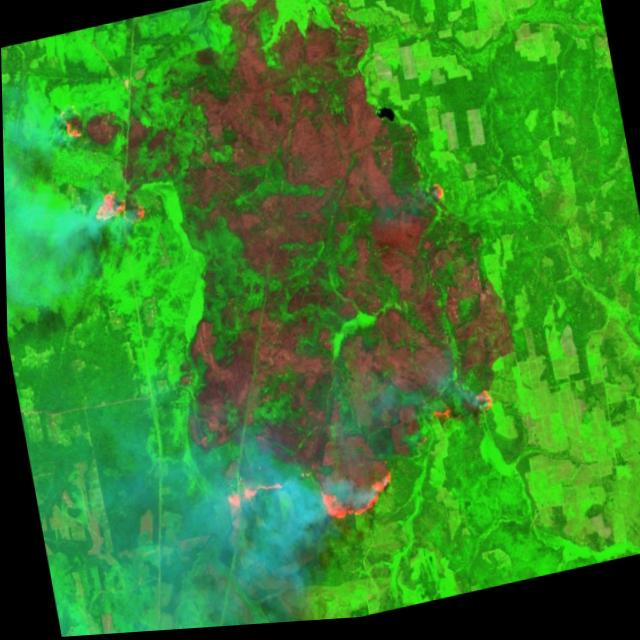fire: (209, 388, 507, 555), (59, 102, 154, 239), (422, 176, 450, 212)
